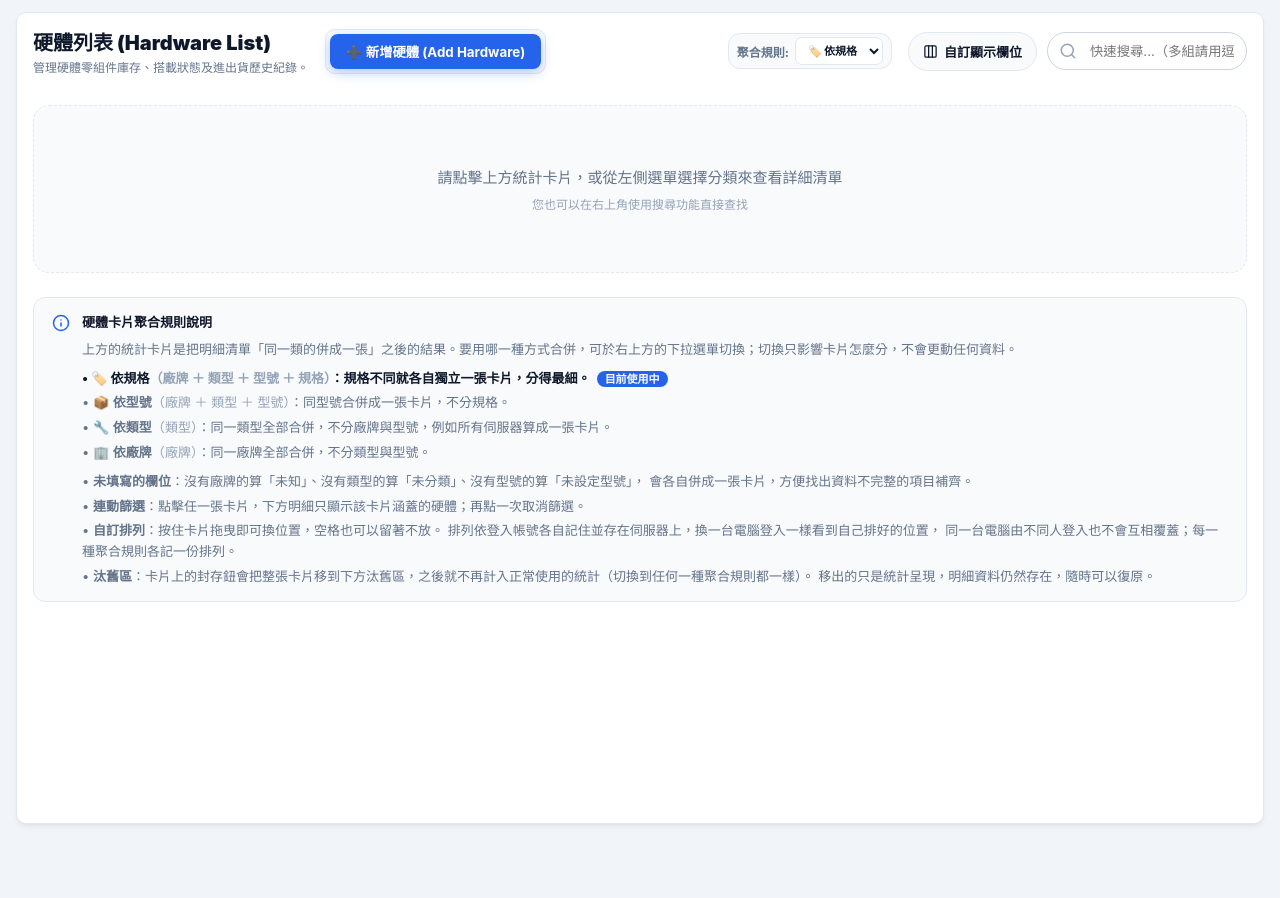
Test: 設備與硬體出貨日期 (shipping_date) 欄位與確認出貨自動回寫測試 › HwList 應能在搜尋關鍵字時顯示出貨日期欄位與資料
輸入搜尋字詞以進入 table 檢視
Type "HW-NIC" into the field with placeholder "快速搜尋...（多組請用逗號分隔）" at (1147, 51), box [1047, 32, 1247, 70]
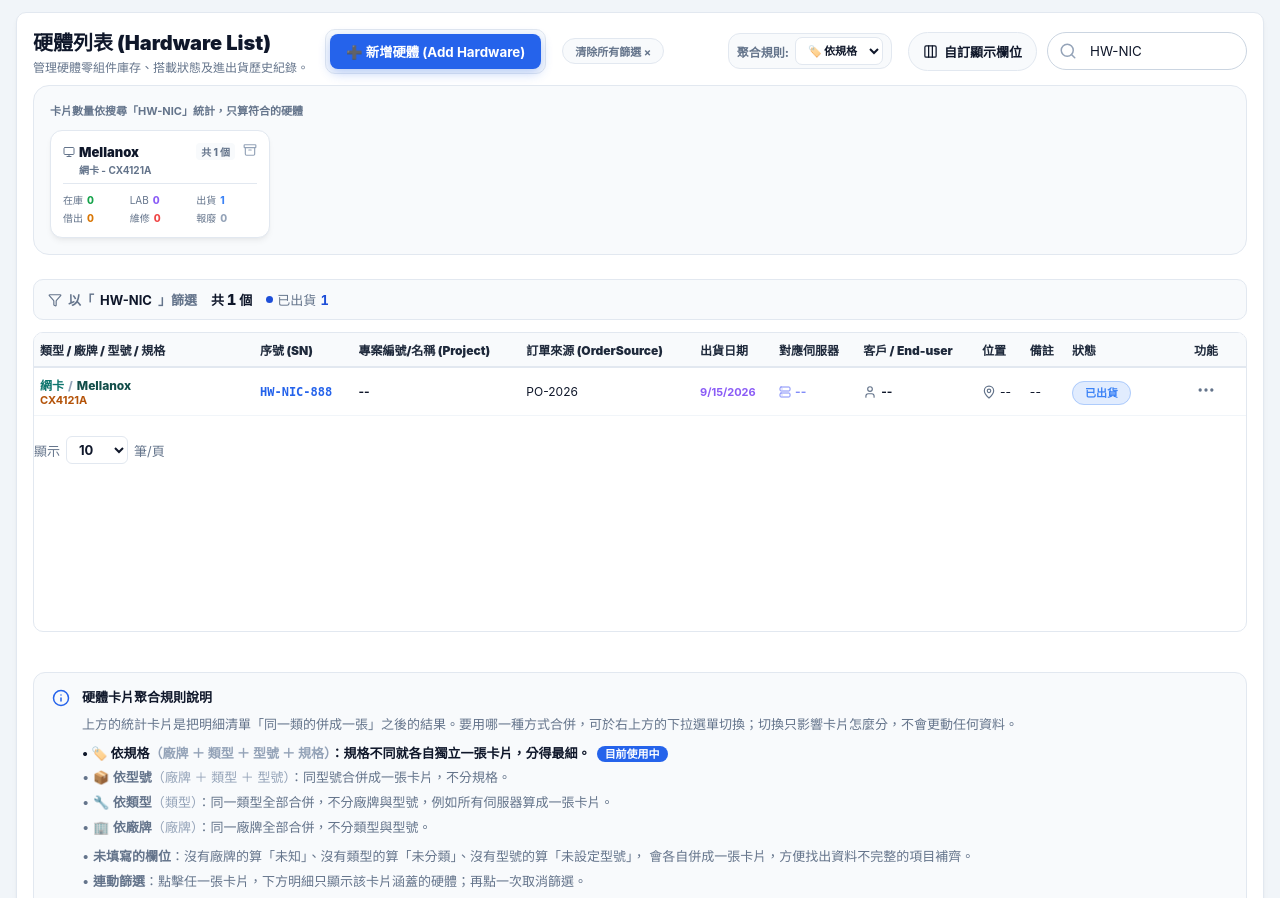
expect the column heading "出貨日期" is shown: met, box [694, 333, 773, 367]
expect the text "HW-NIC-888" is shown: met, box [254, 367, 352, 416]
